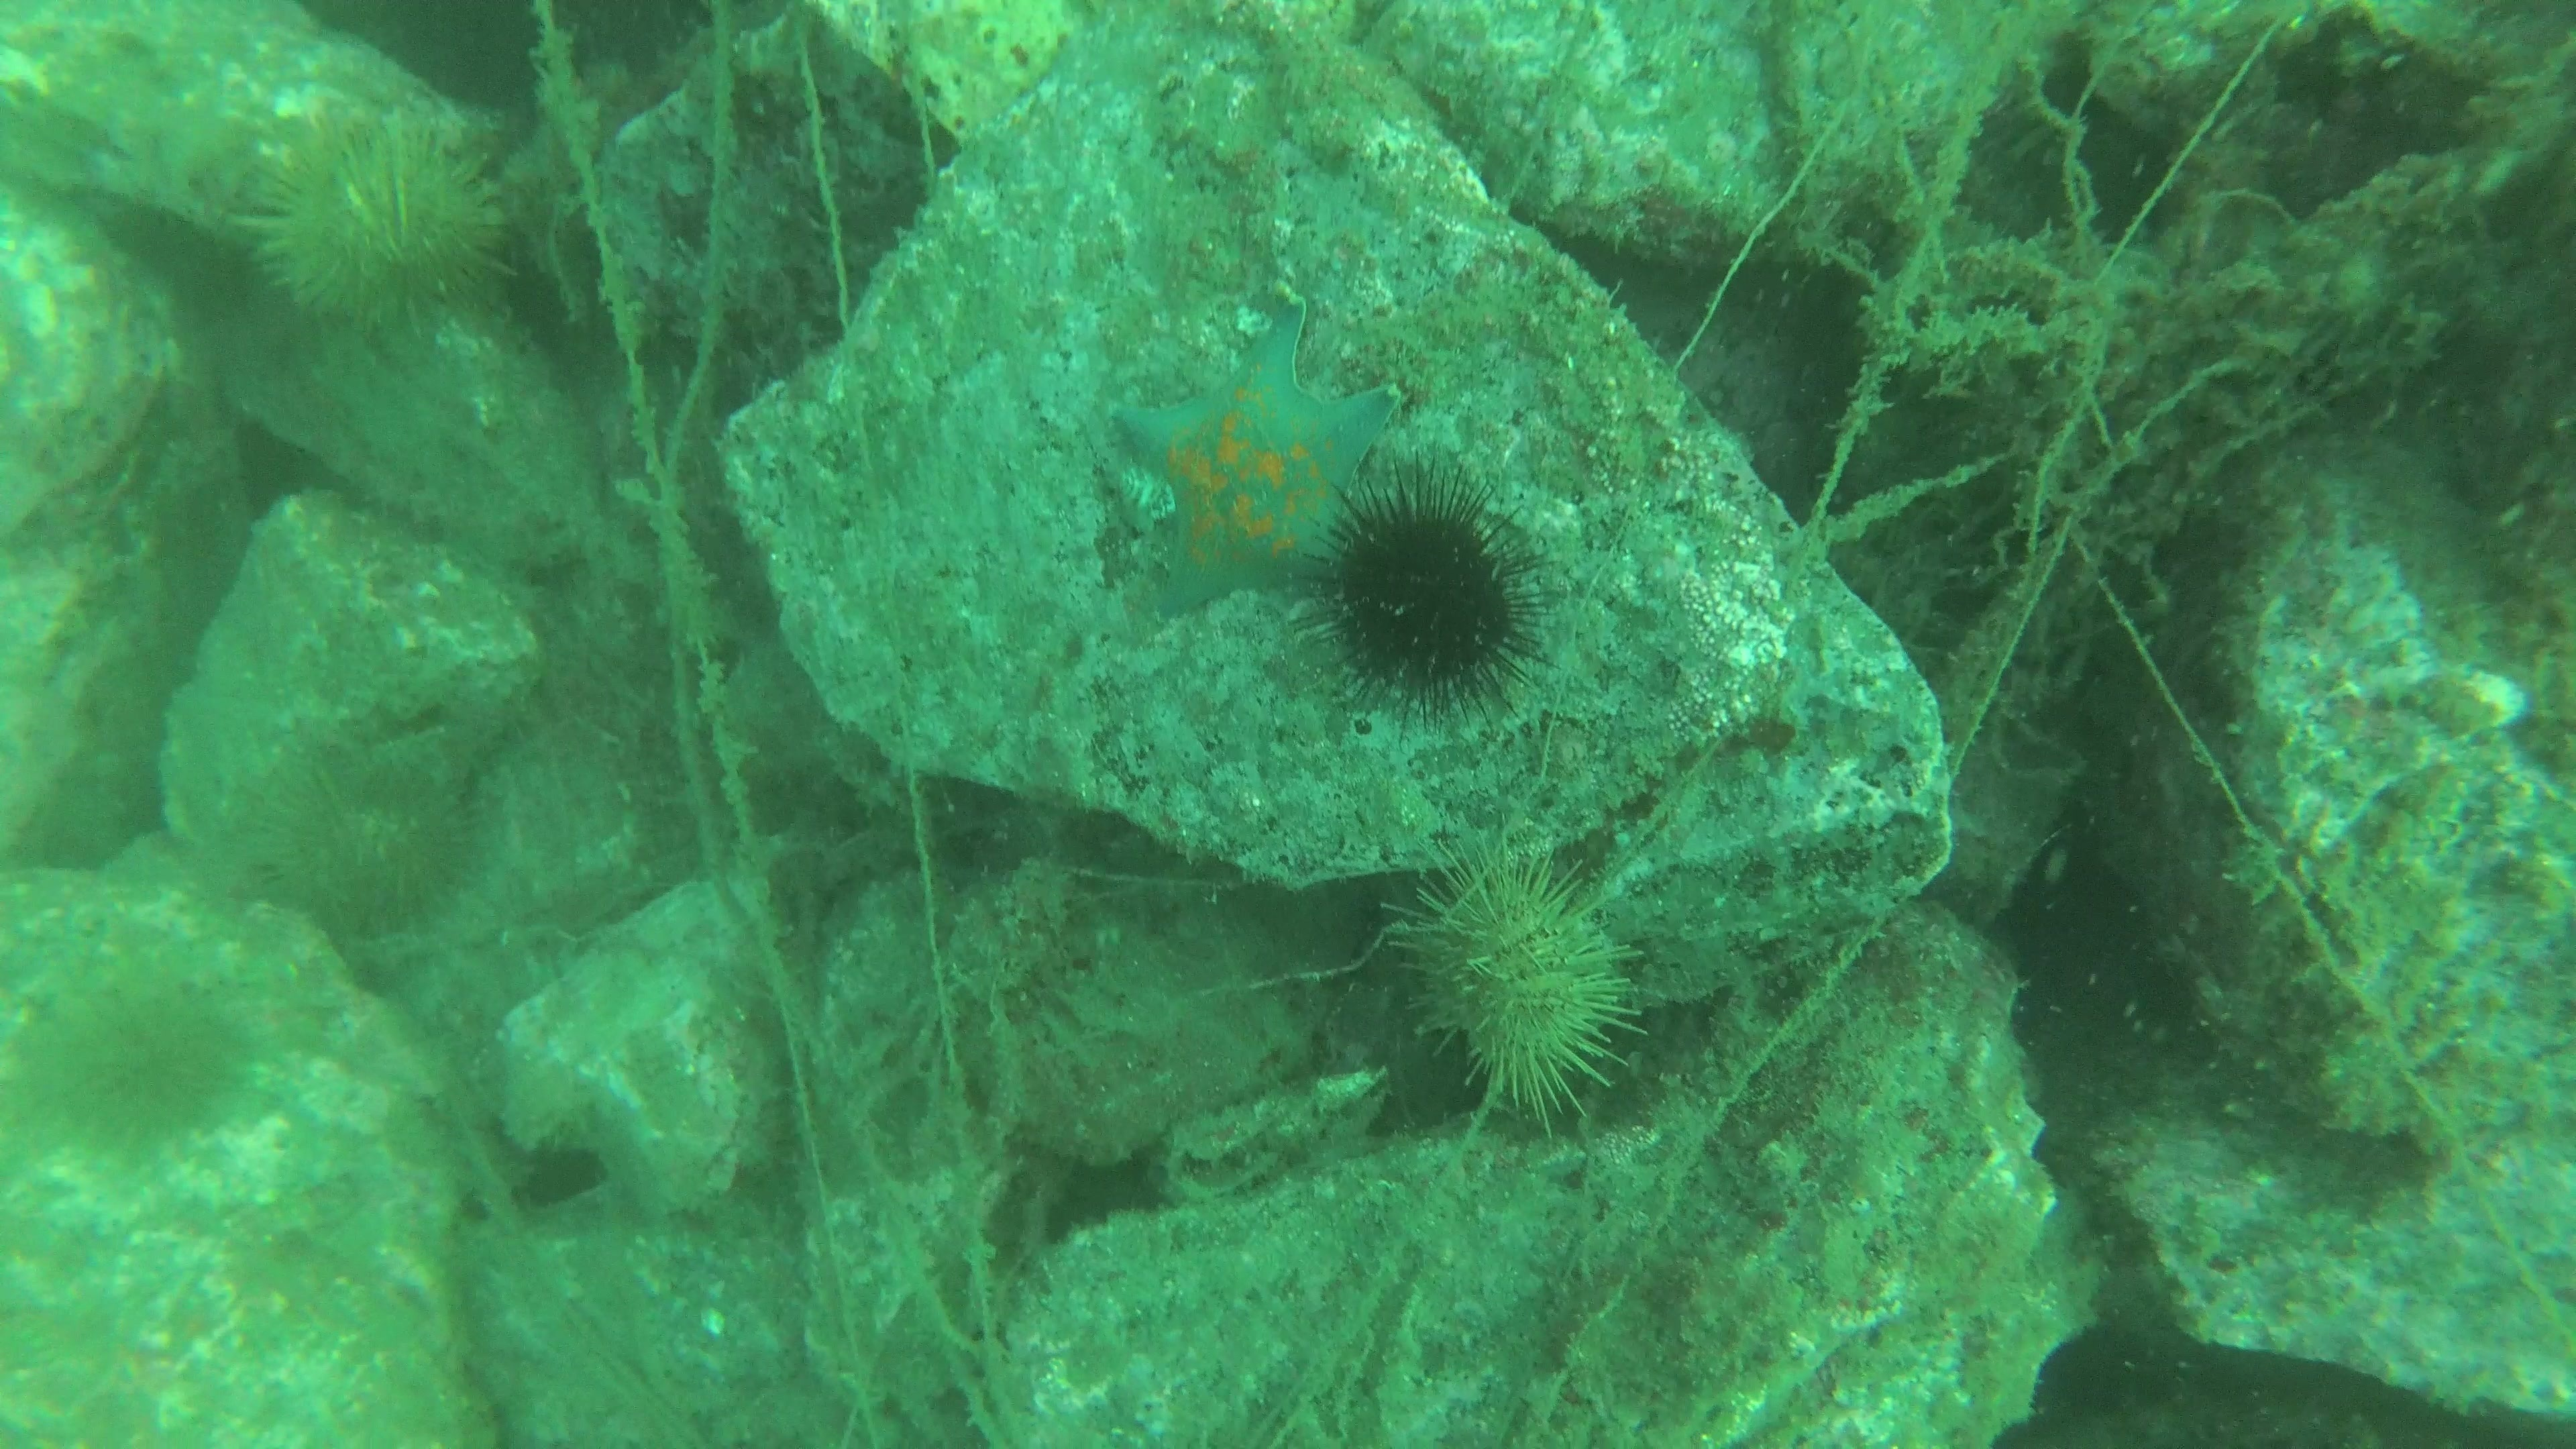echinus: (1380, 844, 1651, 1132), (1302, 471, 1548, 722), (241, 115, 518, 336), (255, 747, 485, 939), (23, 971, 258, 1159)
starfish: (1109, 310, 1405, 614)
